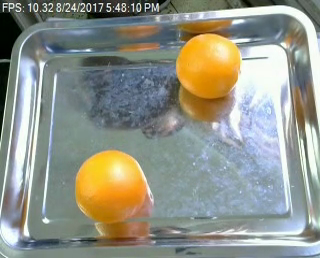Orange: (74, 149, 148, 222), (175, 33, 241, 99)
